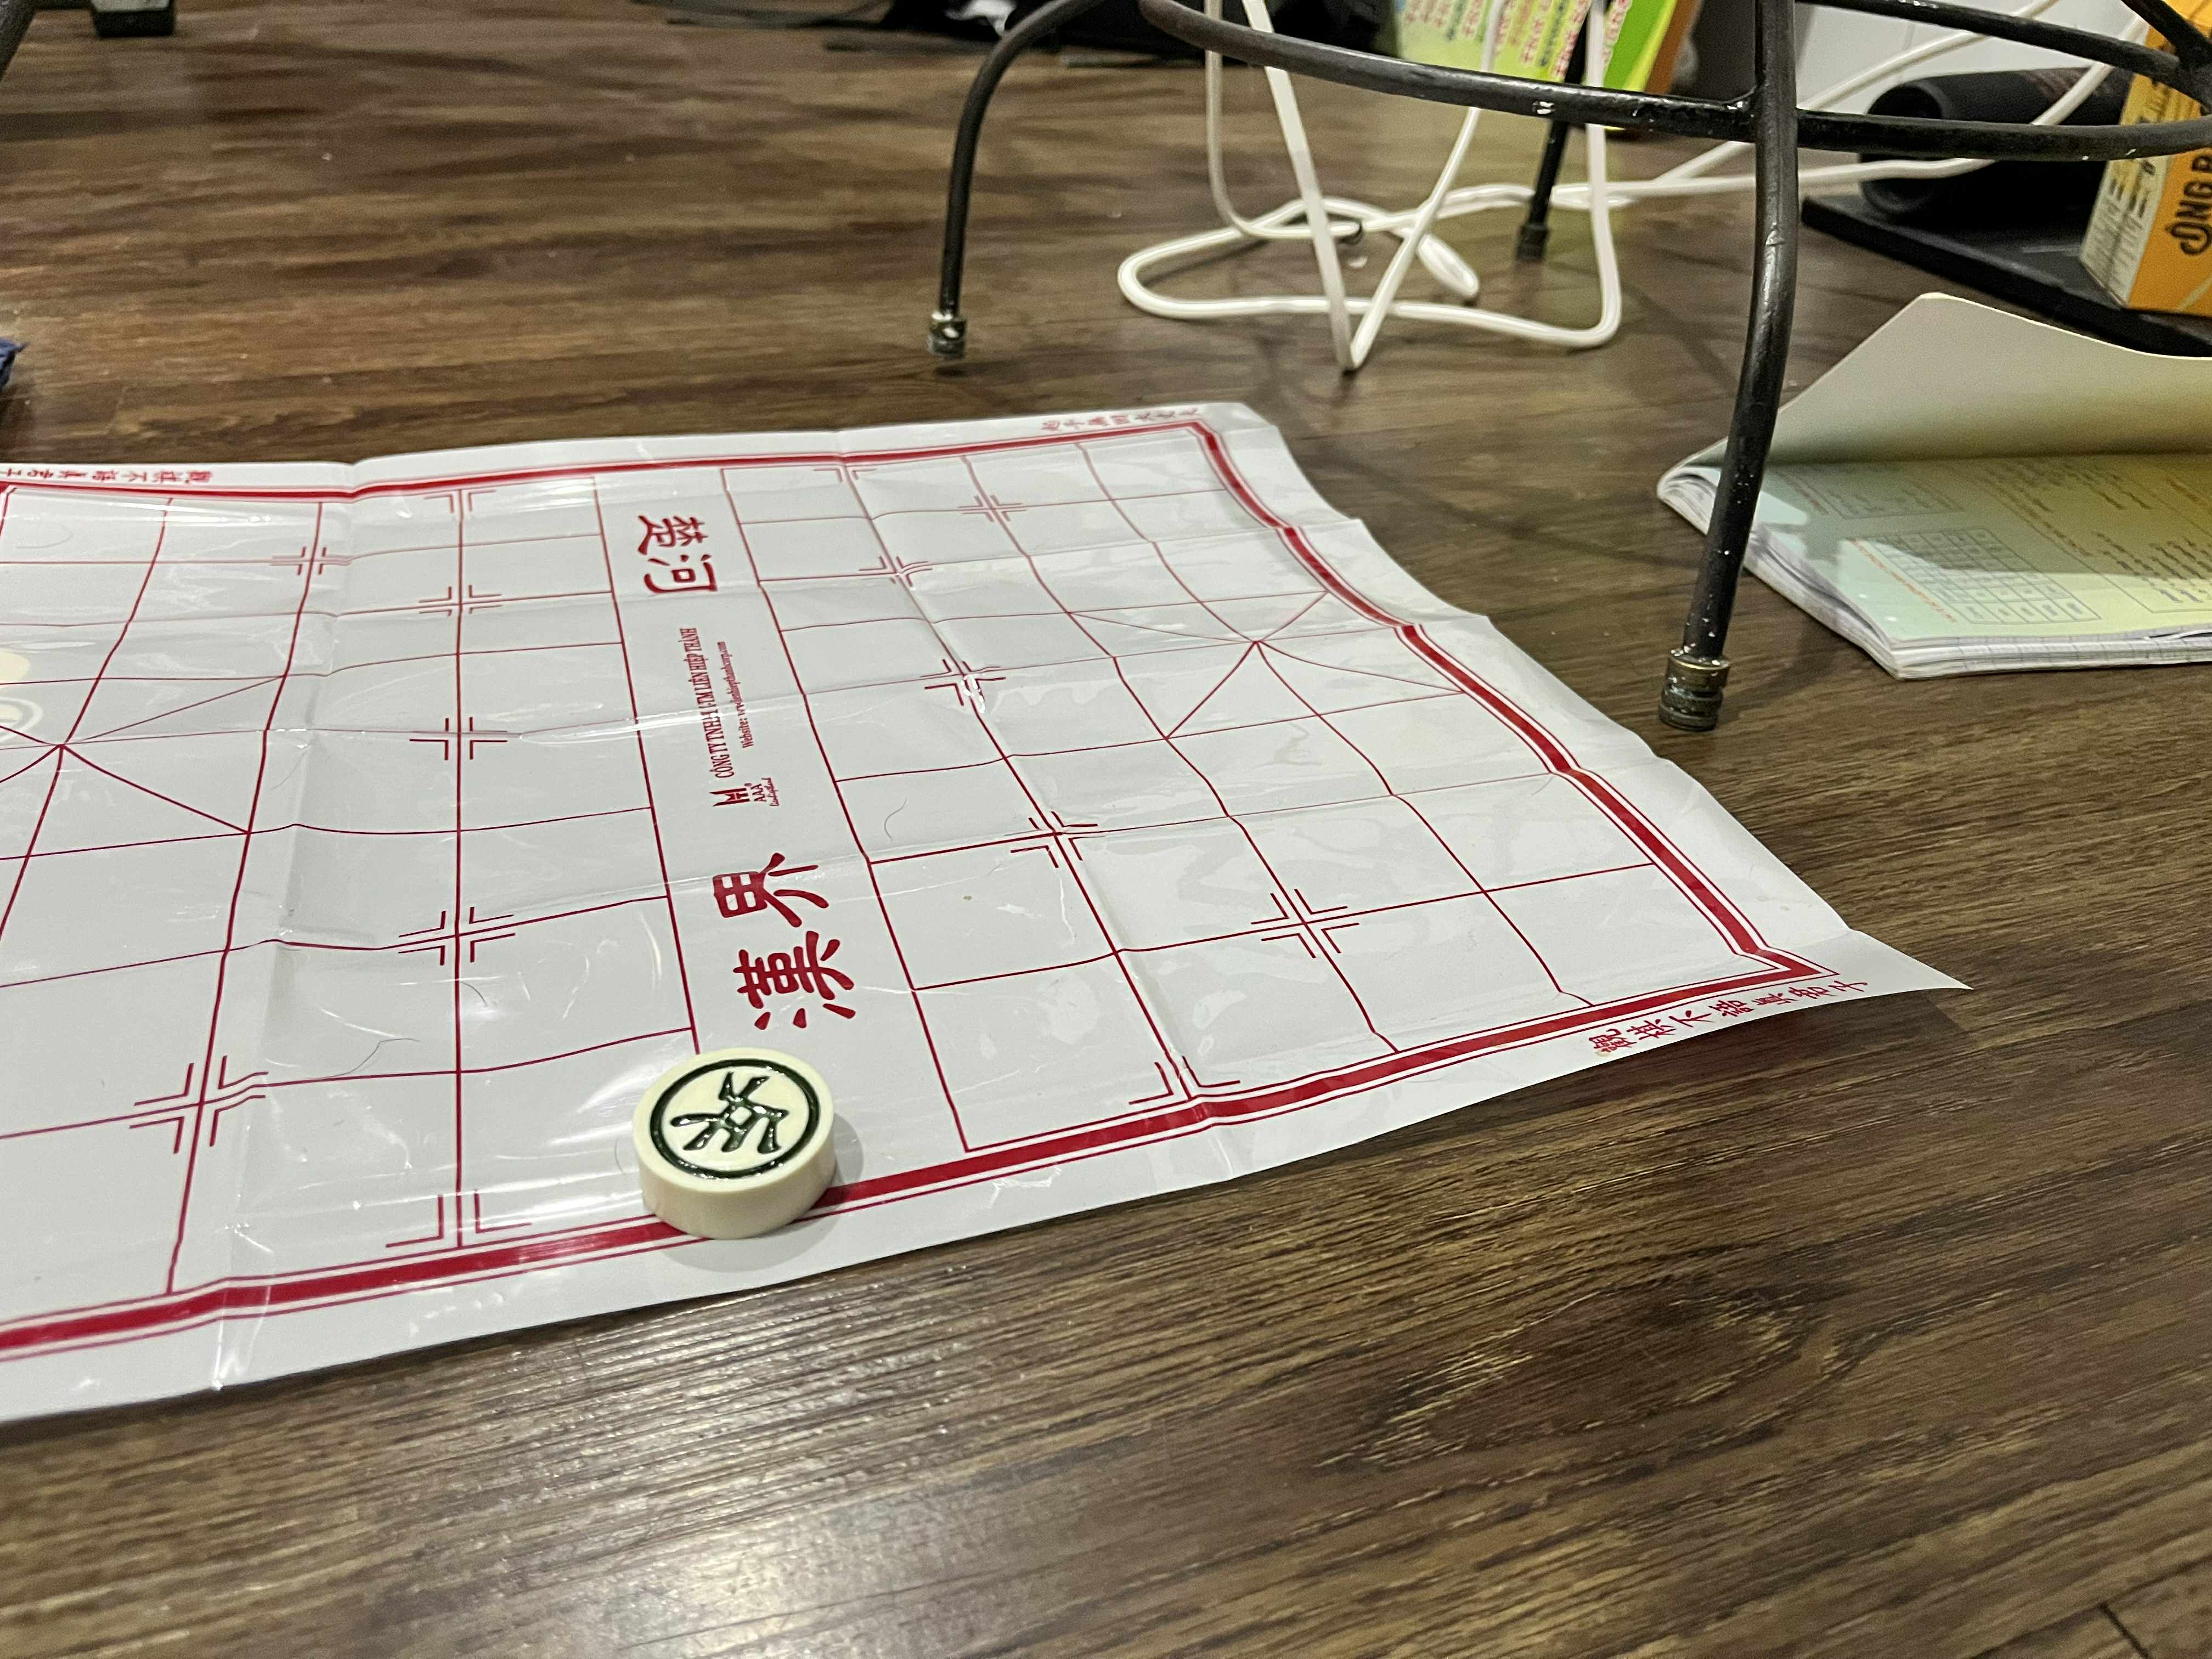black-soldier: (631, 1044, 836, 1197)
